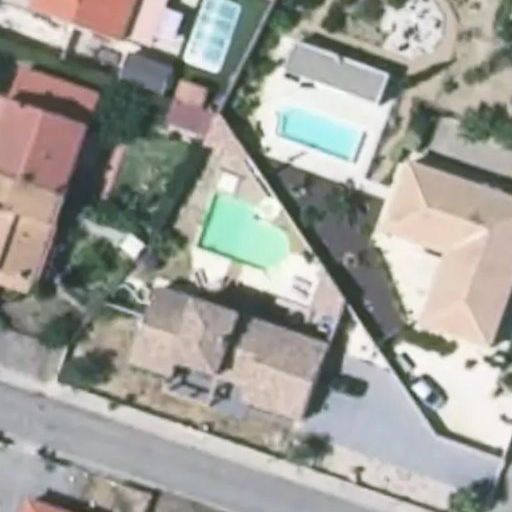pool: (195, 187, 292, 273), (276, 104, 365, 164), (182, 3, 242, 81)
